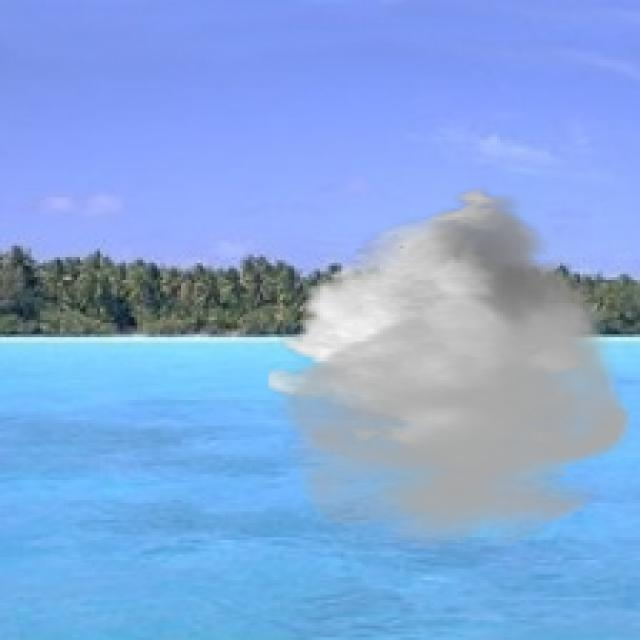Smoke: (268, 186, 638, 548)
